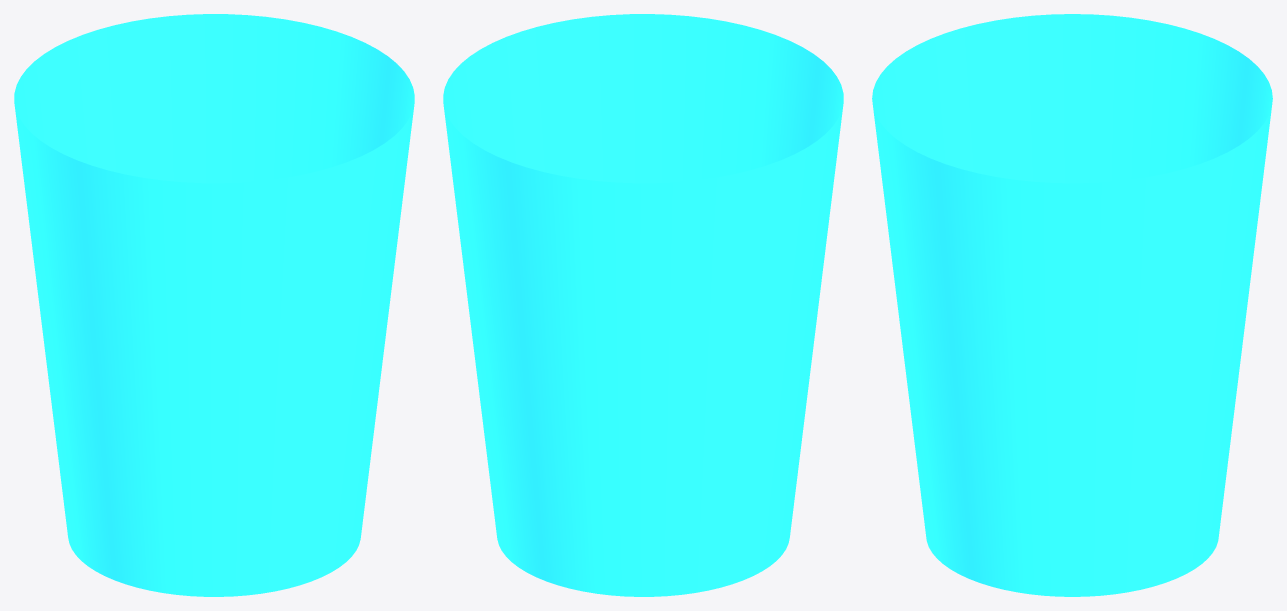
File: BiGuiYuan_LightCylinder(1).glb
The picture shows the model from 3 angles, left to right: view 1: azimuth 30°, elevation 25°; view 2: azimuth 150°, elevation 25°; view 3: azimuth 270°, elevation 25°; orthographic projection.
Parts seen in each view (by area): view 1: Cylinder; view 2: Cylinder; view 3: Cylinder.
Part boxes in pixels (bbox=[...]): Cylinder: bbox=[14, 14, 414, 596]; Cylinder: bbox=[443, 14, 843, 596]; Cylinder: bbox=[872, 14, 1272, 596].
Bounding box in the file's own units: 5.18 × 6.22 × 5.18.
